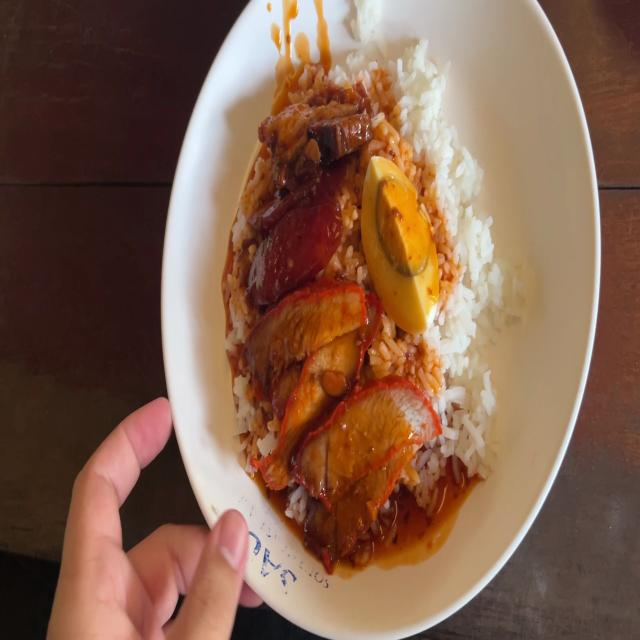01boiled_egg: (366, 159, 441, 328)
01chainese_sausage: (255, 179, 338, 275)
01crispy_pork: (260, 93, 373, 161)
01red_pork: (256, 294, 381, 517), (373, 376, 436, 491)
01red_pork_and_crispy_pork: (236, 64, 496, 512)
01rice: (443, 154, 499, 494), (380, 48, 460, 158)
